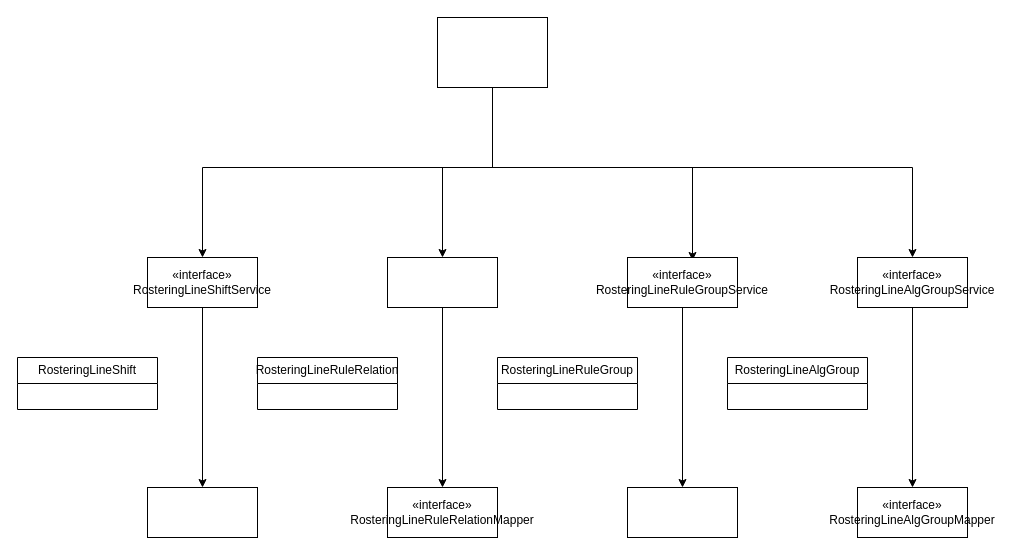
This 1012x555 diagram has some shape labels left out. Here are the shapes that lost their labels. From the top down, the centre of each, then its label:
the point at 492,52: «interface» ShiftController
the point at 442,282: «interface» RosteringLineRuleRelationService
the point at 202,512: «interface» RosteringLineShiftMapper
the point at 682,512: «interface» RosteringLineRuleGroupMapper
